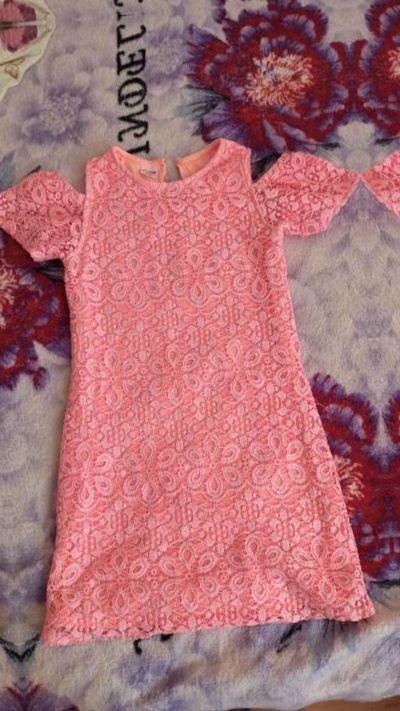Dress: (0, 91, 400, 676), (353, 59, 400, 643), (0, 124, 21, 708)
